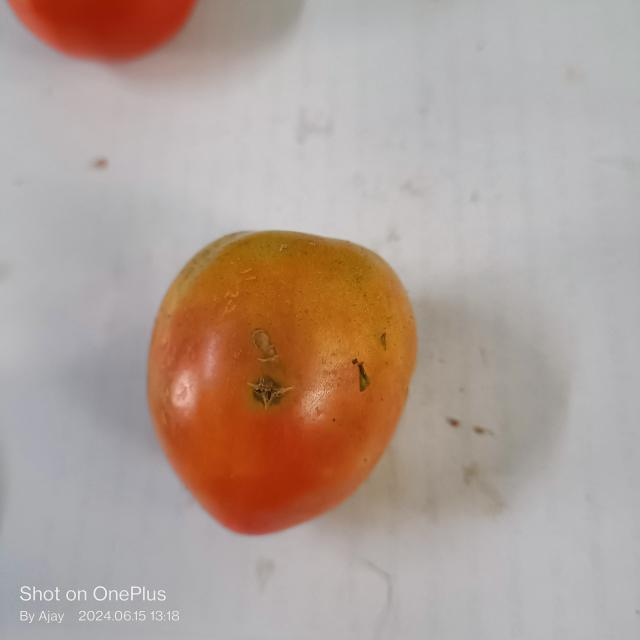Bacterial_Spot: (246, 372, 287, 408), (254, 328, 280, 365), (354, 355, 376, 390)
